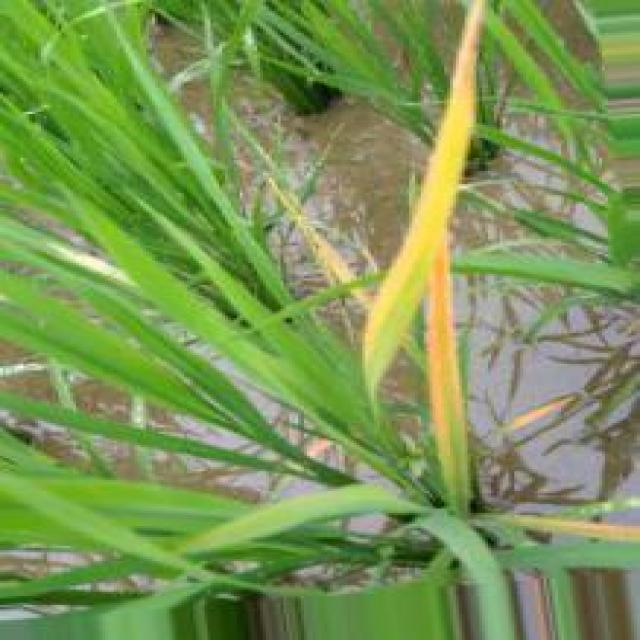Rice Tungro: (363, 0, 484, 396), (427, 242, 468, 516), (269, 176, 357, 283), (508, 515, 638, 542), (510, 398, 573, 429)
